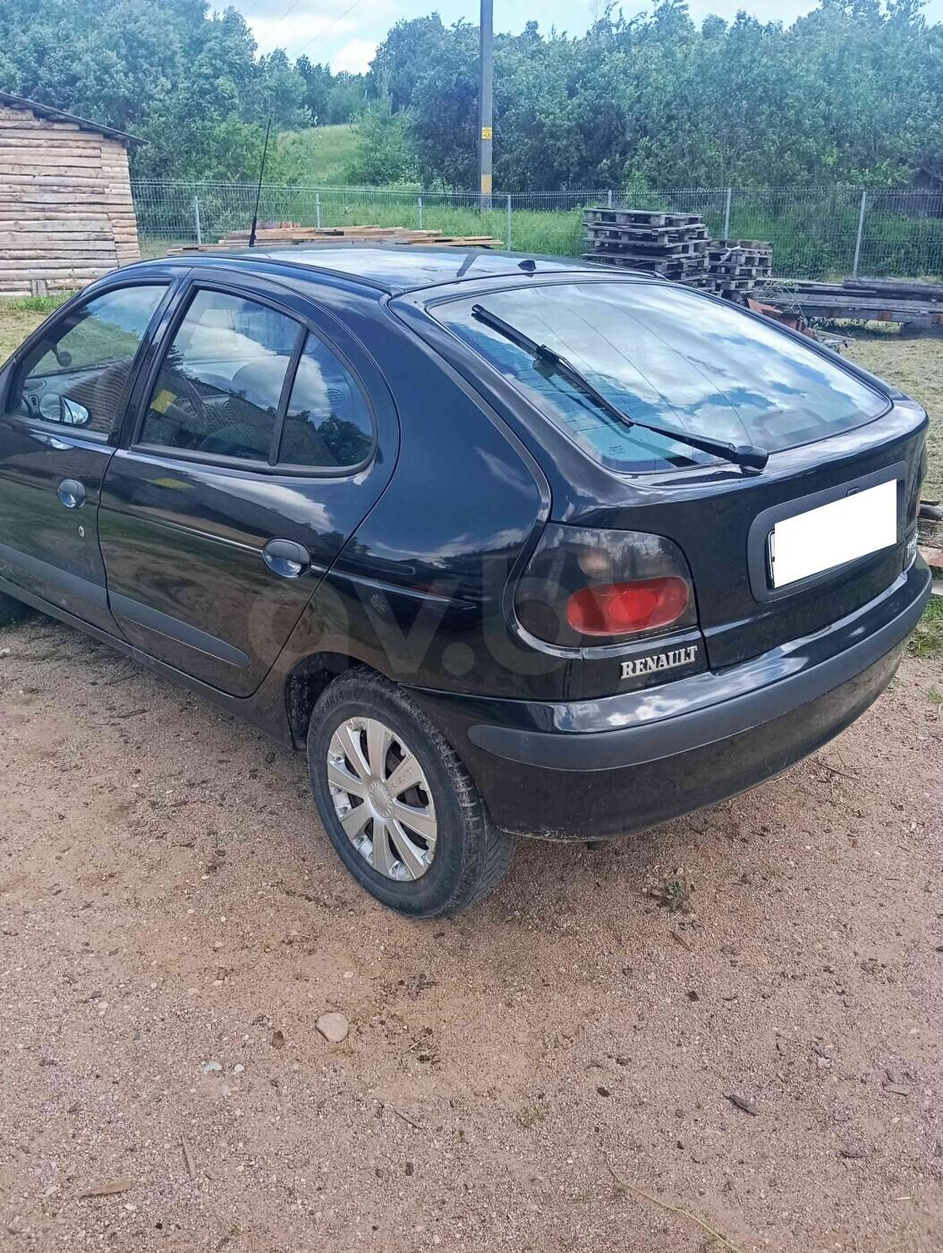Megane_1995-1999: (0, 231, 925, 906)
